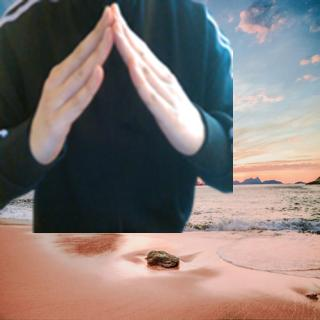HOME: (30, 1, 205, 163)
